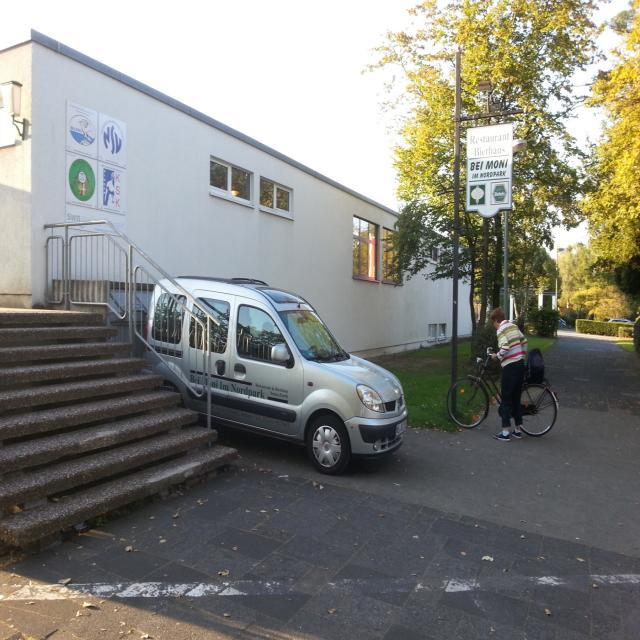AVOID: (0, 307, 235, 541)
